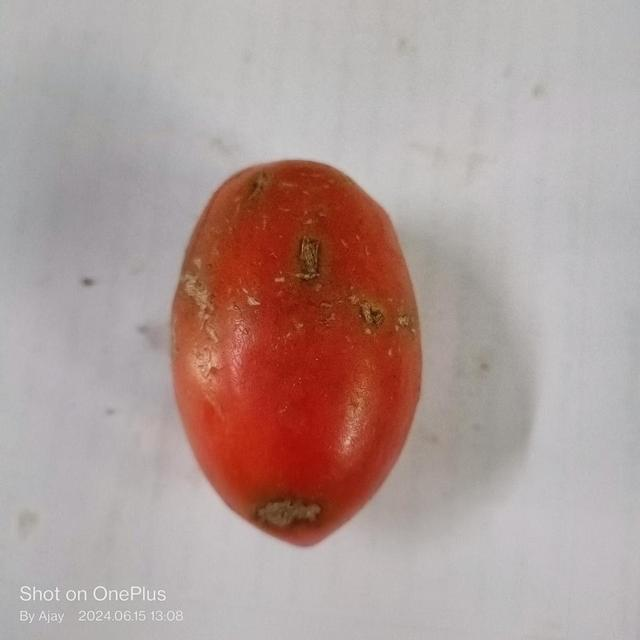Bacterial Spot Fruit: (20, 21, 243, 340)
